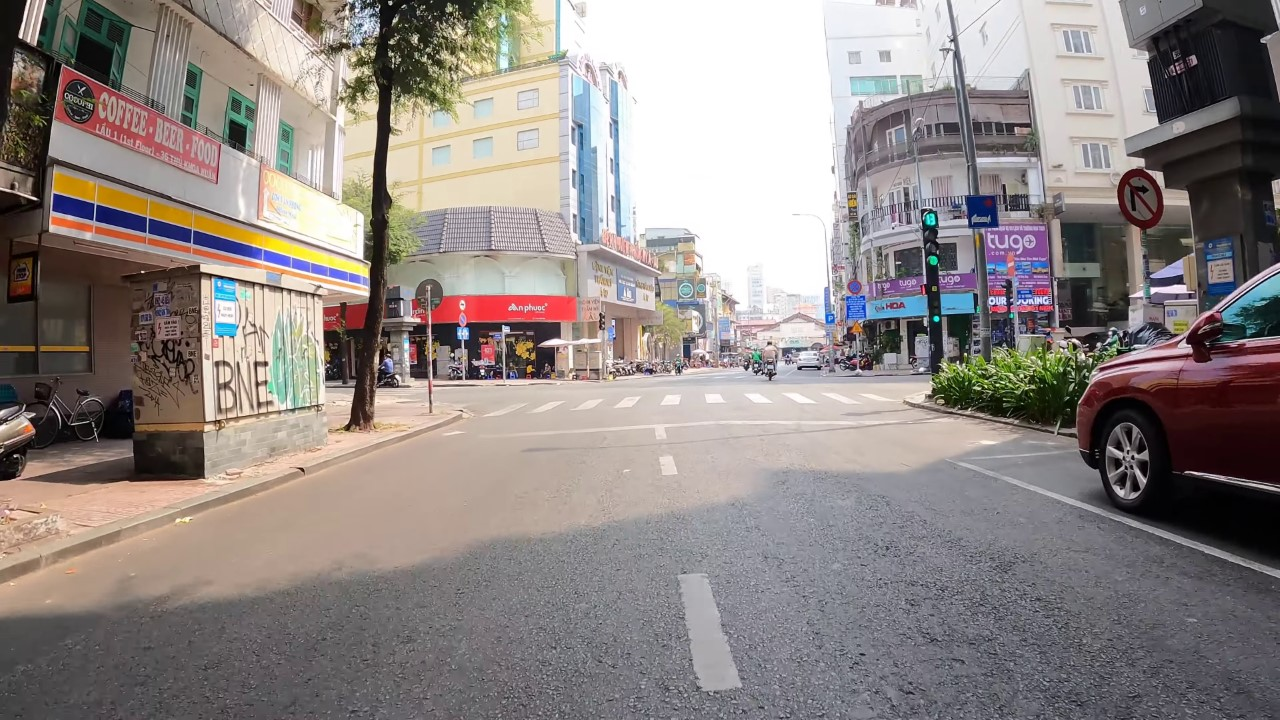cam_re_phai: (1113, 163, 1167, 231)
